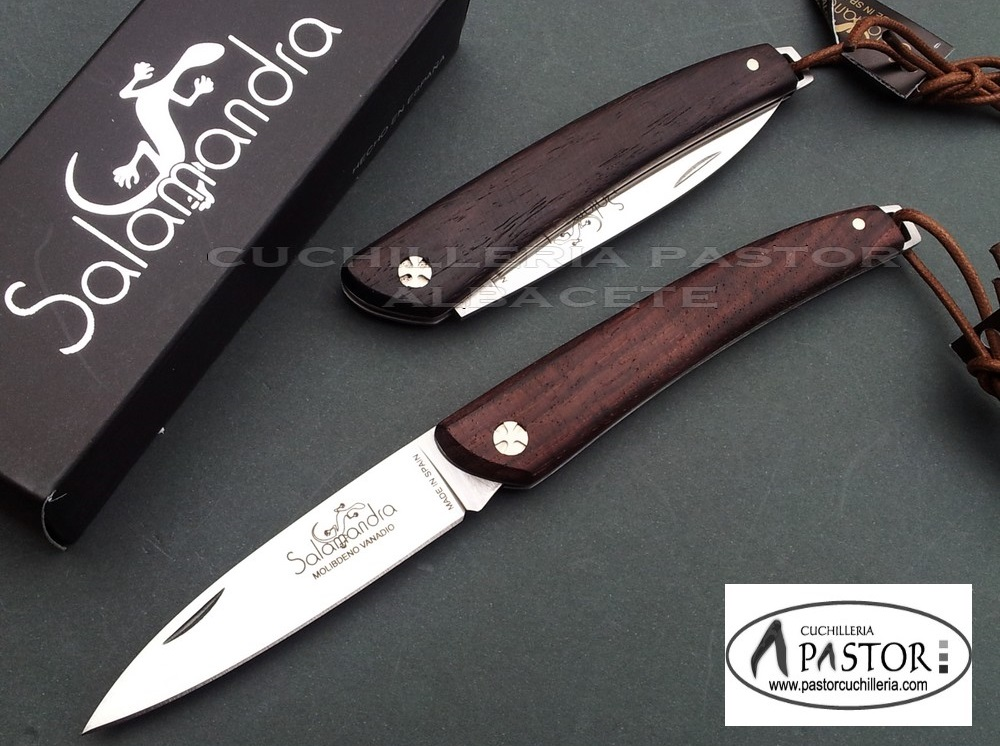knife: (73, 402, 499, 744)
